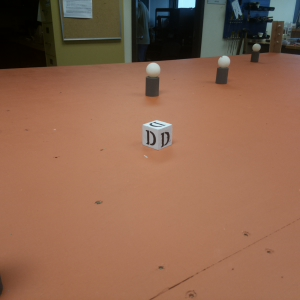blockD: (143, 120, 173, 150)
corner: (271, 21, 284, 54)
obstacle: (145, 61, 161, 97), (215, 56, 231, 83), (251, 43, 261, 63)
